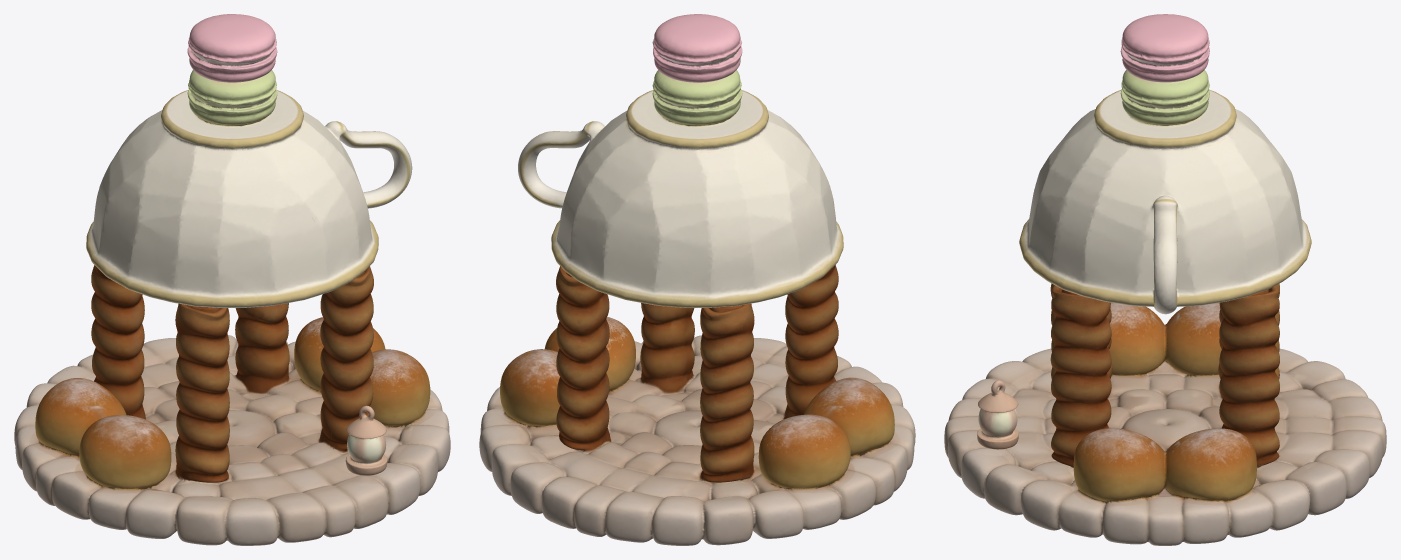
Rendered from teacup-gazebo-park.glb.
3 renders of one model, left to right at view 1: azimuth 30°, elevation 25°; view 2: azimuth 150°, elevation 25°; view 3: azimuth 270°, elevation 25°, orthographic.
Size of the model in its own units: 1.77 by 1.9 by 1.77.
Materials: 1 (1 with a texture image).
